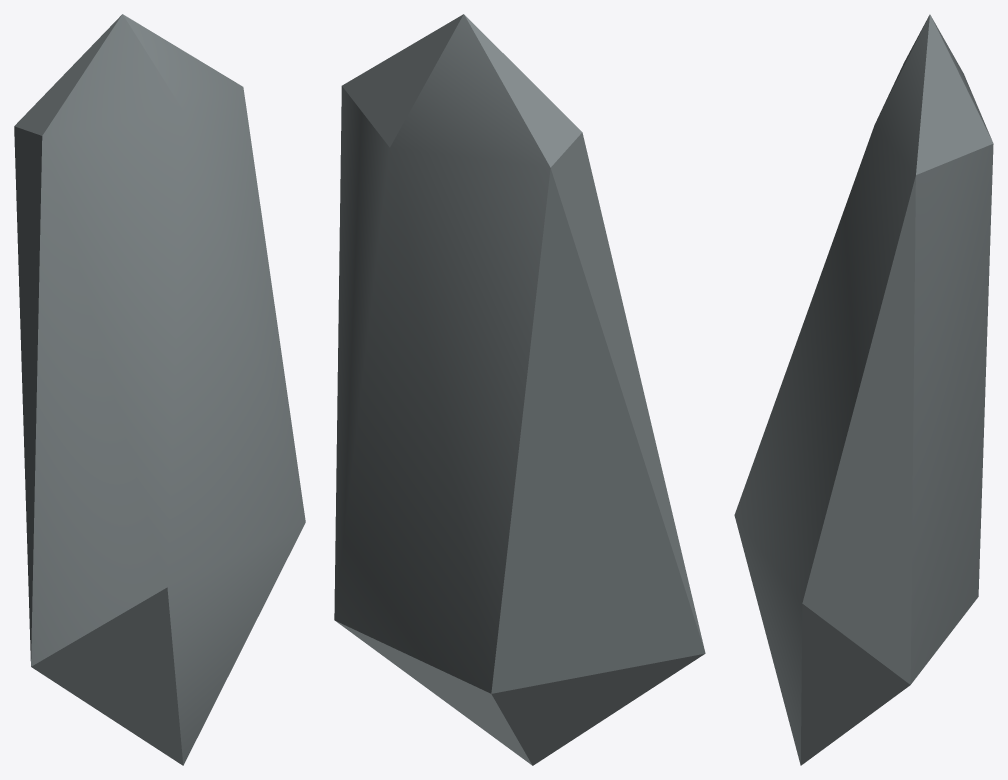
File: SharpingStone.fbx
3 views of the same model, side by side, from view 1: azimuth 30°, elevation 25°; view 2: azimuth 150°, elevation 25°; view 3: azimuth 270°, elevation 25° (orthographic). The views are drawn at different scales.
Parts seen in each view (by area): view 1: SharpingStone; view 2: SharpingStone; view 3: SharpingStone.
Boxes of the visible parts, x1=… form: SharpingStone: x1=14, y1=14, x2=305, y2=765; SharpingStone: x1=334, y1=14, x2=705, y2=765; SharpingStone: x1=734, y1=14, x2=993, y2=765.
Size of the model in its own units: 22.95 by 56.3 by 17.58.
